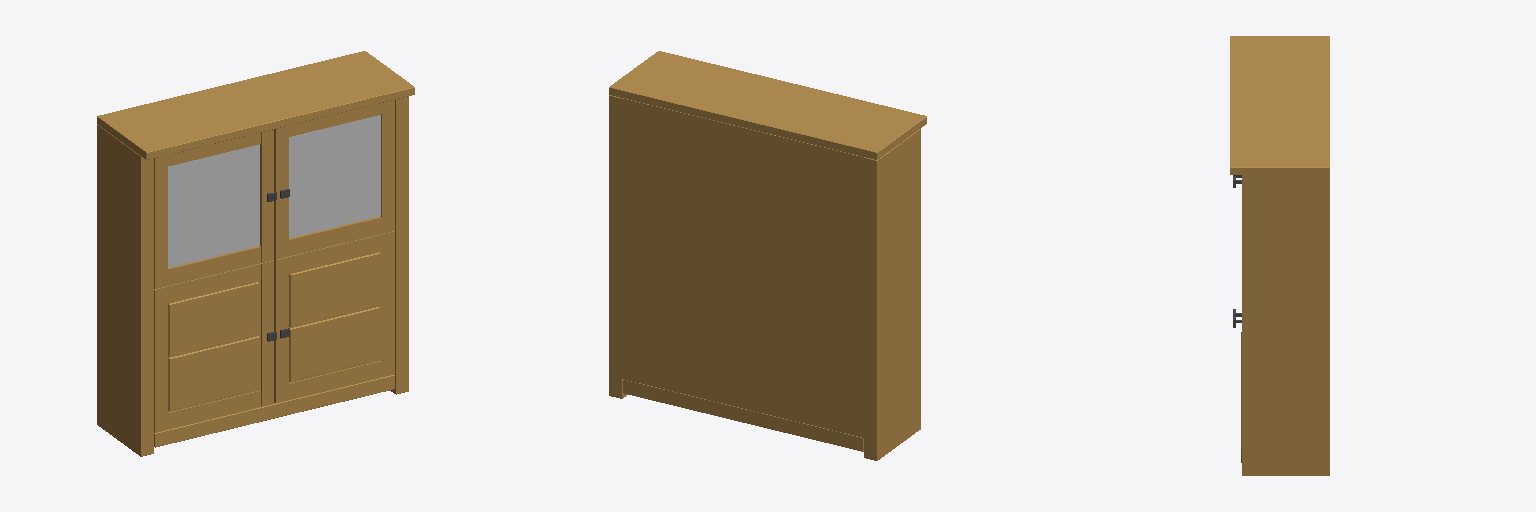
File: glass-cabinet.obj
The picture shows the model from 3 angles: view 1: azimuth 30°, elevation 25°; view 2: azimuth 150°, elevation 25°; view 3: azimuth 270°, elevation 25°; orthographic projection.
Visible parts, largest first — view 1: sideboard; view 2: sideboard; view 3: sideboard.
Boxes of the visible parts, <box> form: sideboard: <box>97,51,414,456</box>; sideboard: <box>609,51,926,460</box>; sideboard: <box>1230,36,1329,475</box>.
Size of the model in its own units: 1.1 by 1.21 by 0.3549.